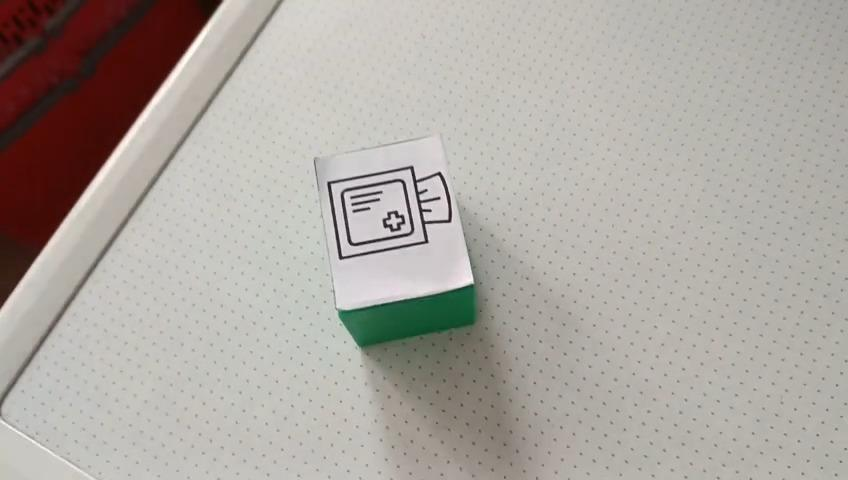Gauze: (312, 132, 477, 348)
